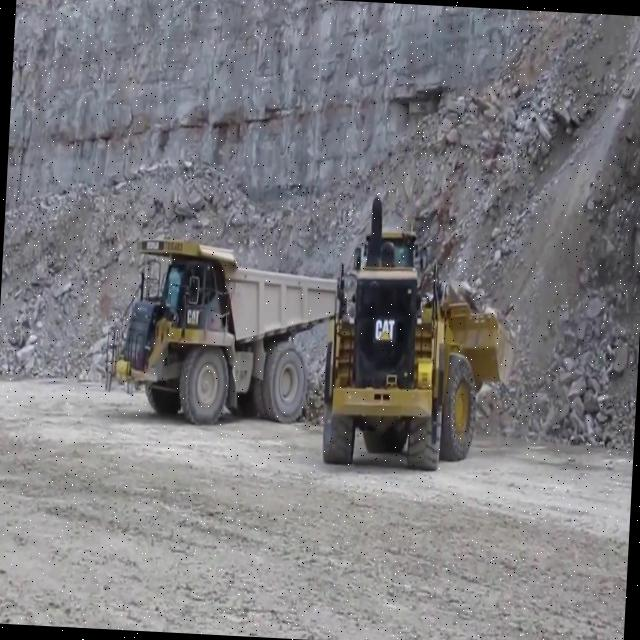Dump Truck: (102, 222, 340, 430)
Loader: (318, 220, 518, 472)
